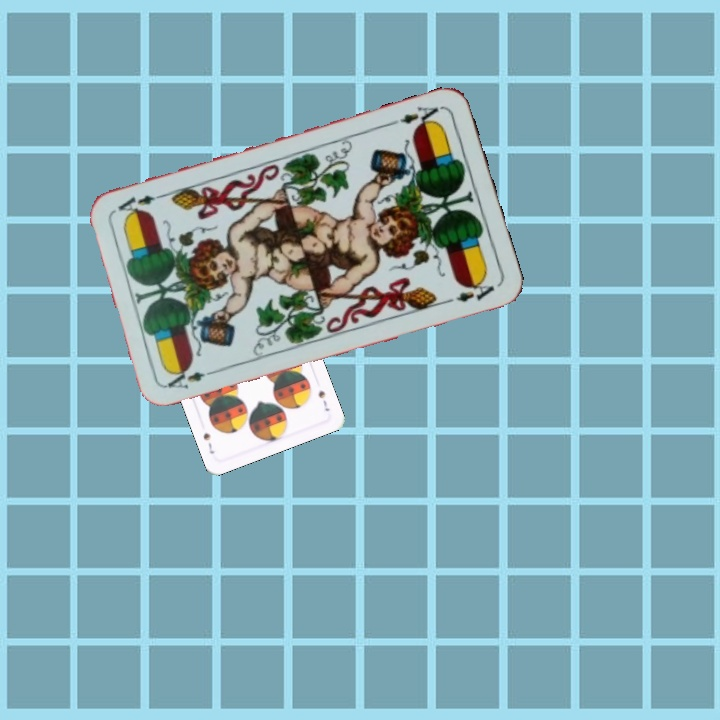EA: (386, 102, 444, 131), (163, 365, 221, 392)
S7: (314, 386, 332, 414)
